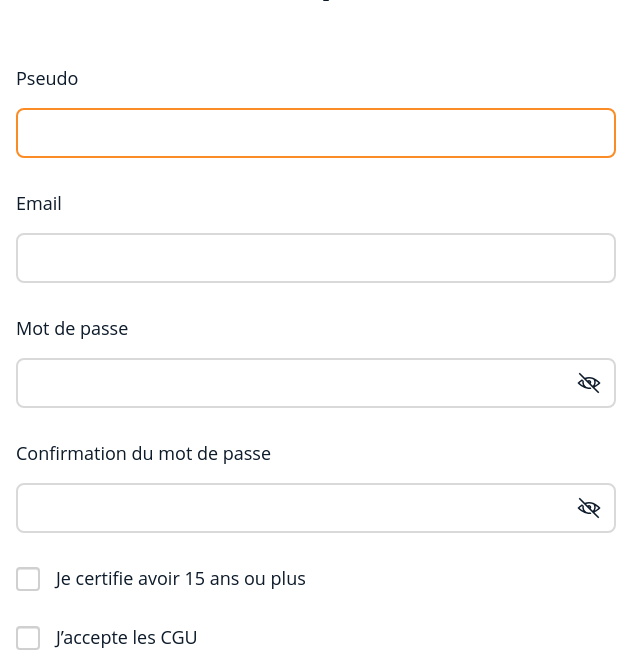
Test: Signup Form › should not submit if the Email is empty
This screenshot has width=633, height=666.
In the field labelled "Pseudo": (316, 133) [16, 108, 616, 158], type "John"
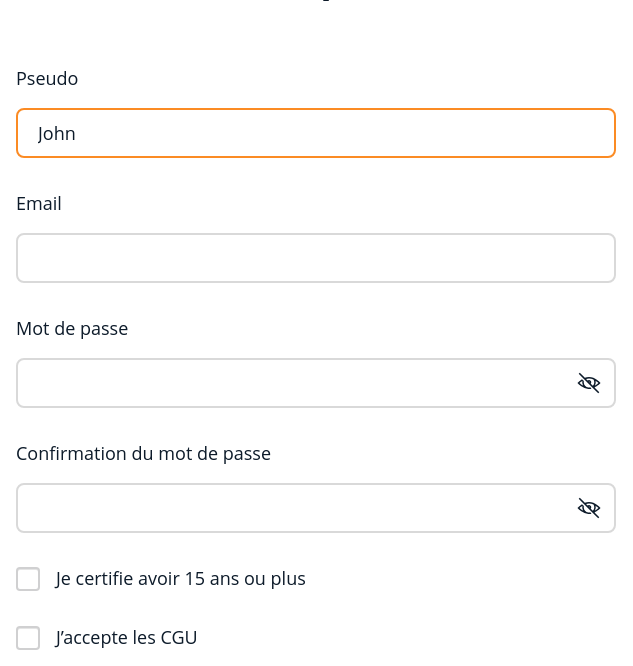
Clear the field labelled "Email": (316, 258) [16, 233, 616, 283]
(page scrolled)
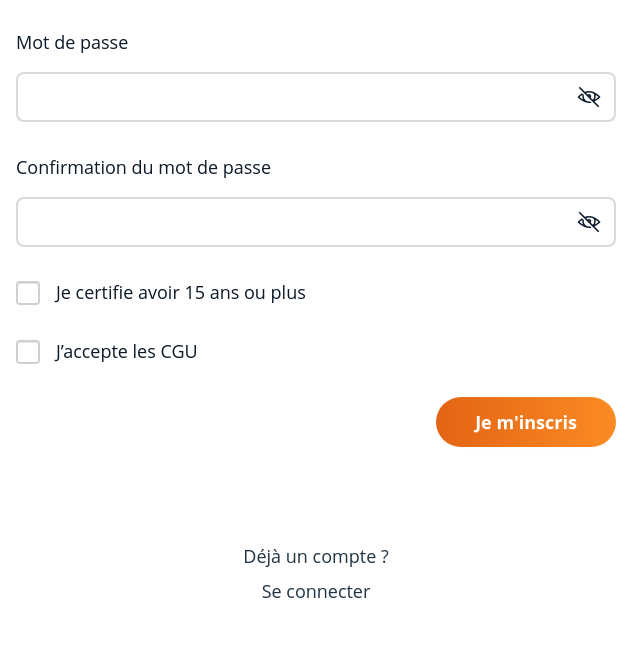
Click the button "Je m'inscris": (526, 422) [436, 397, 616, 447]
(page scrolled)
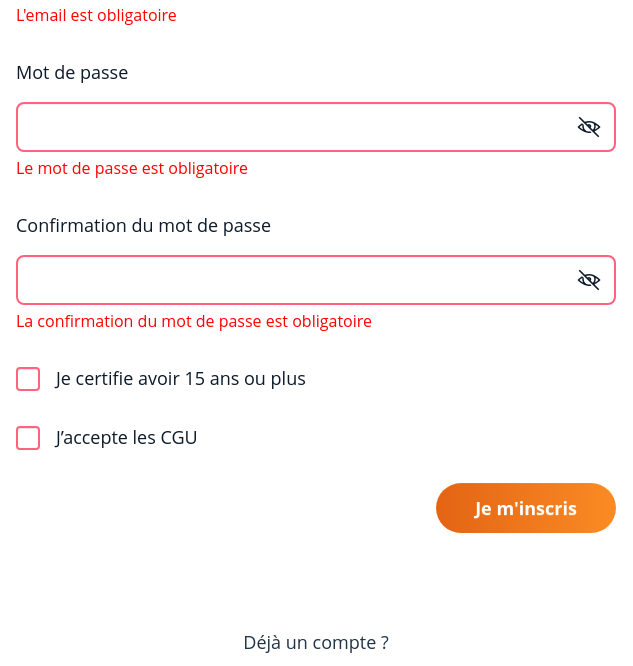
Now the message "L'email est obligatoire" is shown, box [16, 4, 177, 26]
